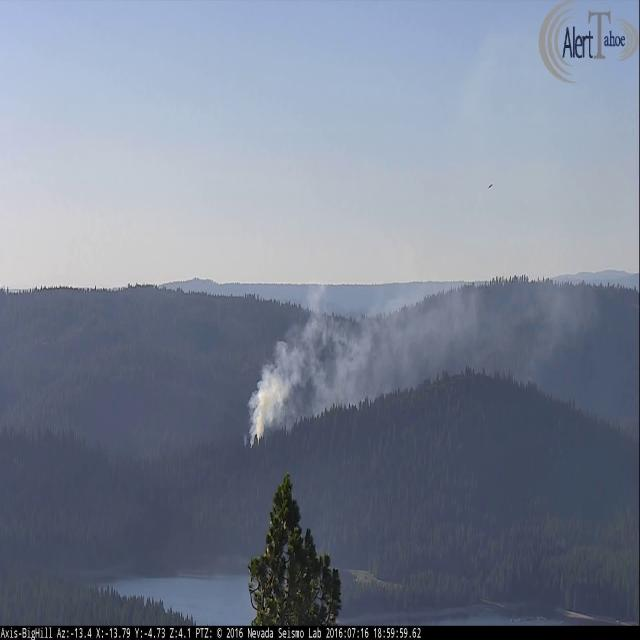smoke: (248, 101, 599, 444)
